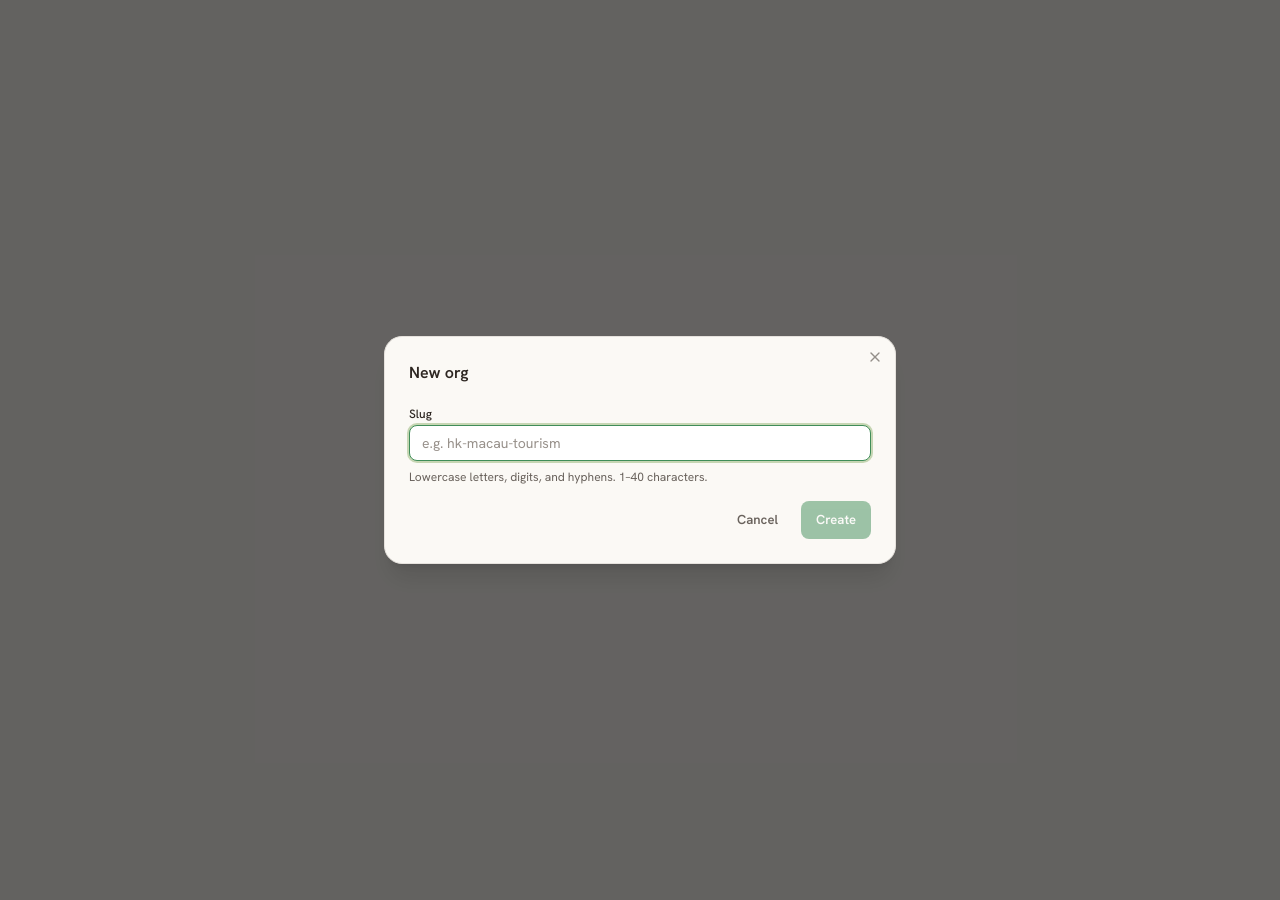
Test: AddOrgDialog › Create disabled until slug matches ^[a-z0-9-]{1,40}$
Expected: the button "Create" is disabled, [801,501,871,539]
Step 1. Type "Bad_Slug" into the field labelled "Slug" → (640, 443), box [409,425,871,461]
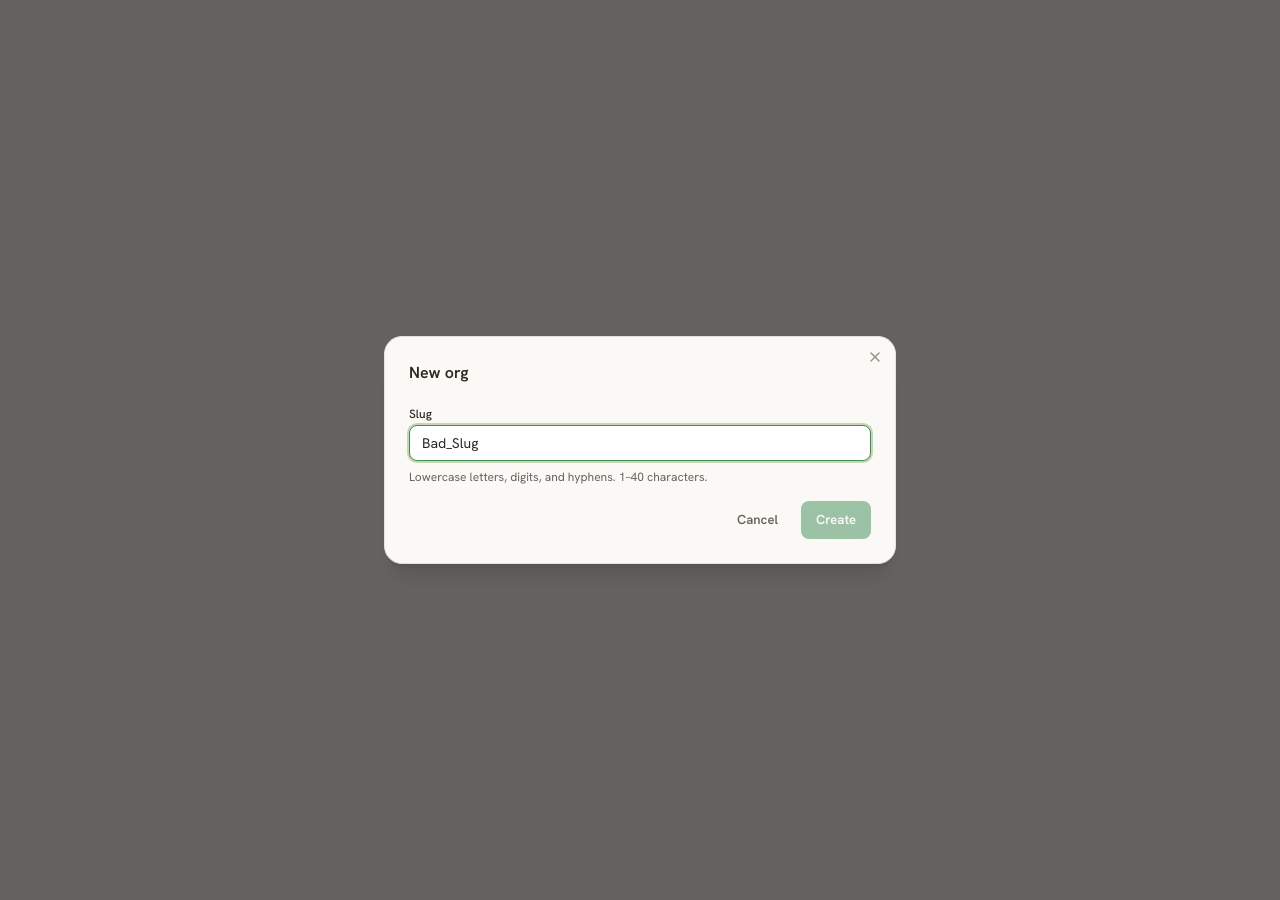
Expected: the button "Create" is disabled, [801,501,871,539]
Step 2. Replace the text in the field labelled "Slug" with "good-slug-1" → (640, 443), box [409,425,871,461]
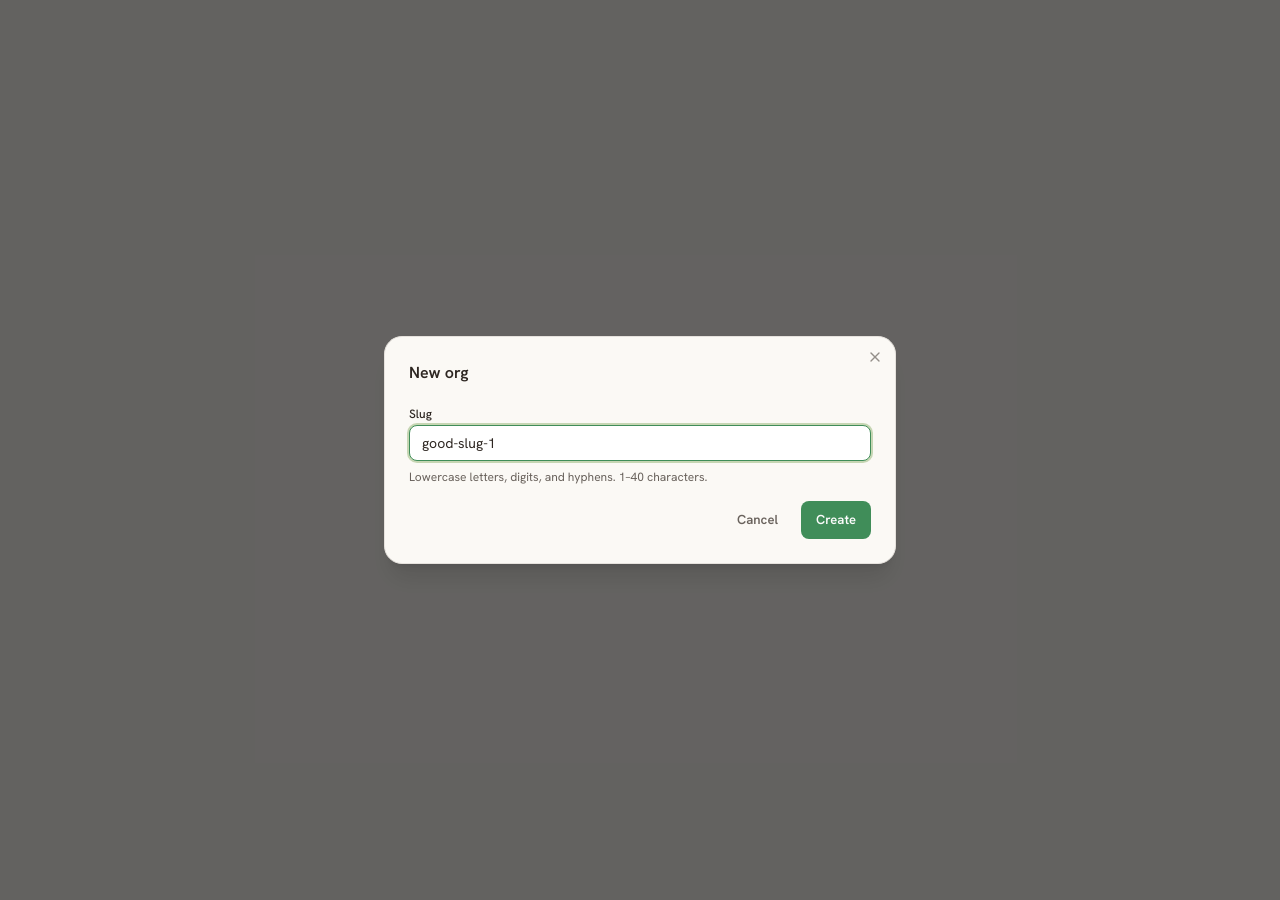
Expected: the button "Create" is enabled, [801,501,871,539]
